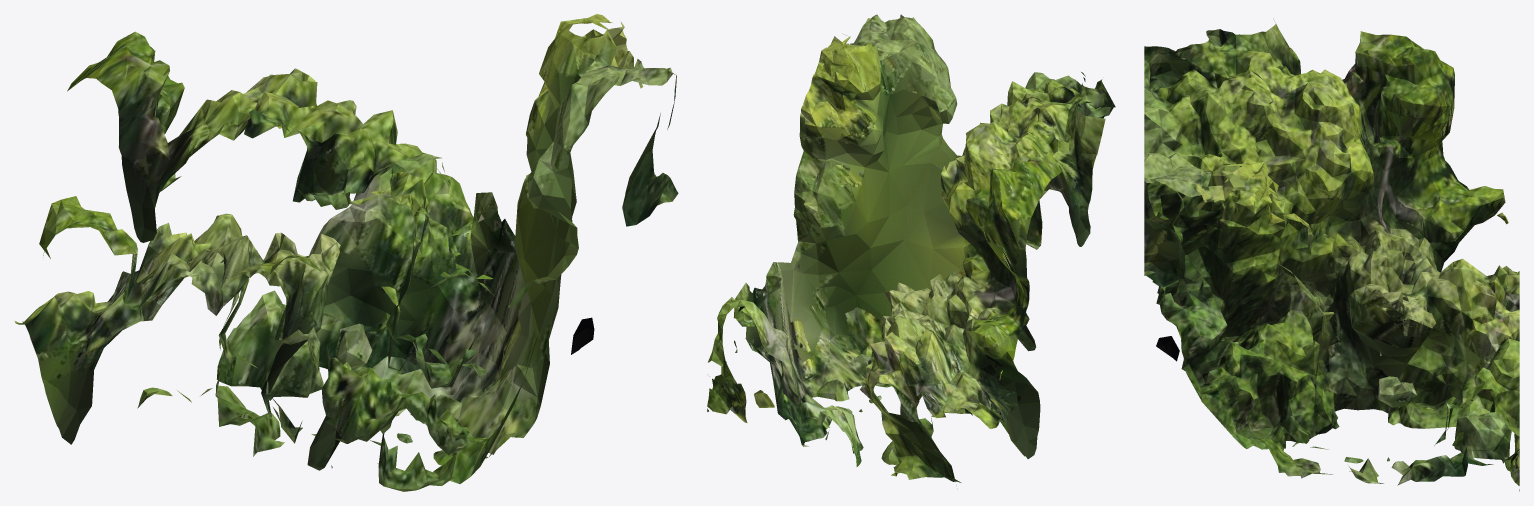
The picture shows the model from 3 angles, left to right: view 1: azimuth 30°, elevation 25°; view 2: azimuth 150°, elevation 25°; view 3: azimuth 270°, elevation 25°; orthographic projection. The views are drawn at different scales.
Bounding box in the file's own units: 26.11 × 26.11 × 26.11.
7 materials, 7 textured.
